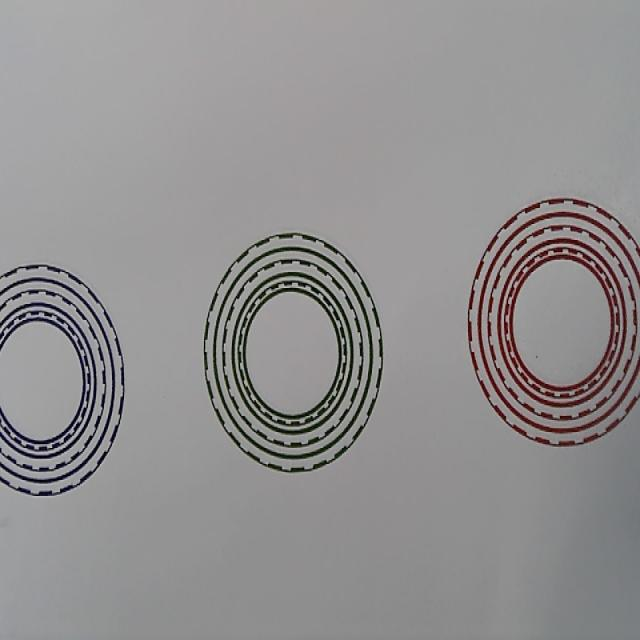g: (202, 232, 384, 473)
